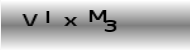3: (103, 19, 117, 32)
M: (88, 8, 106, 23)
V: (21, 13, 38, 27)
l: (44, 10, 50, 23)
x: (63, 16, 78, 27)
